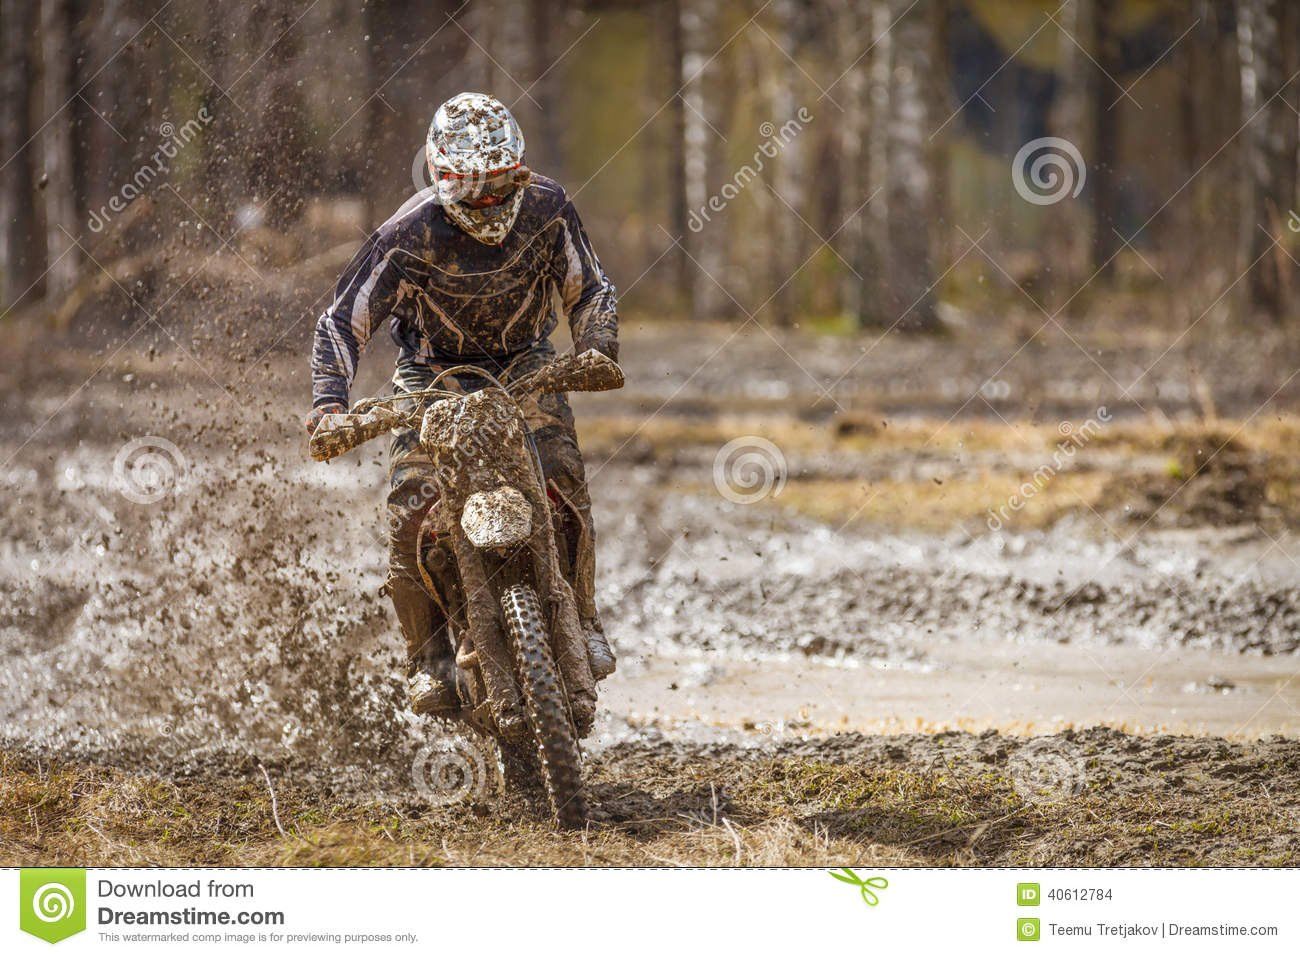helmet: (418, 94, 540, 254)
